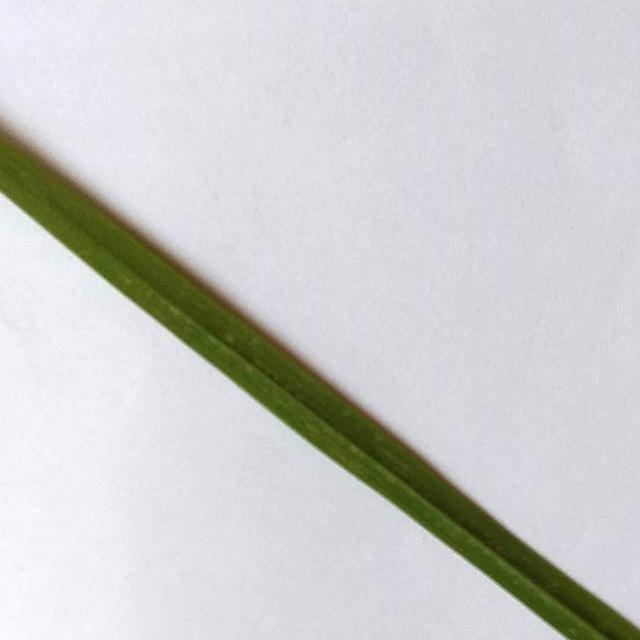Rice_Healthy: (0, 124, 640, 640)
